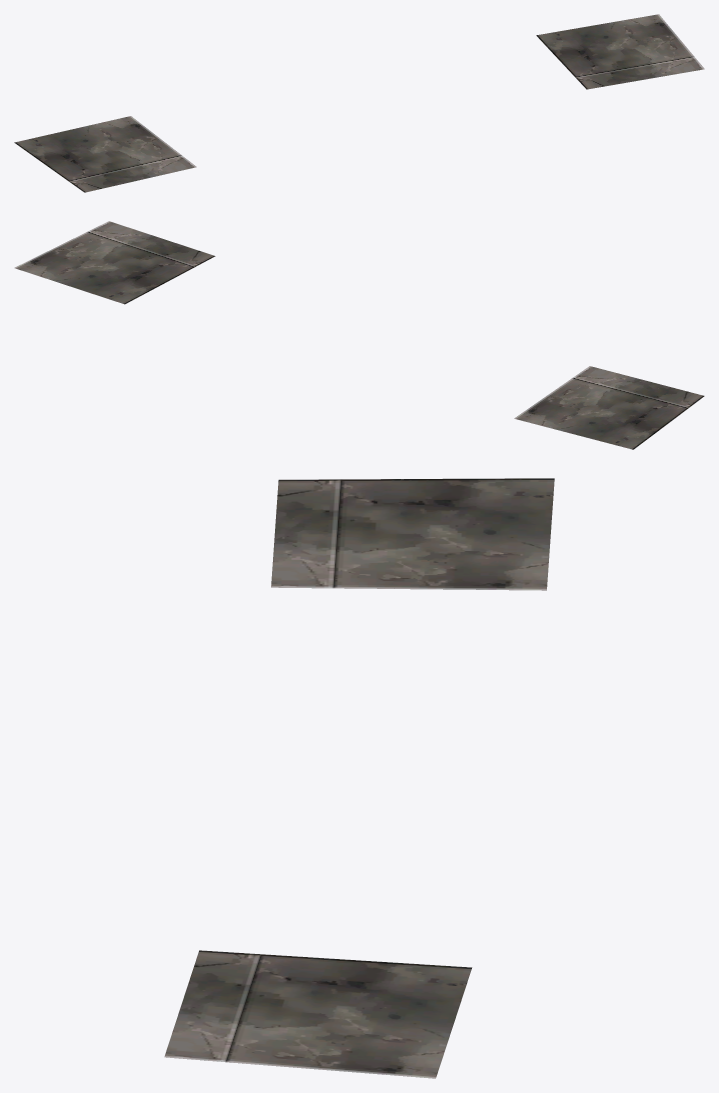
File: CH09_SMAUG_PLAYSURFACE_LAIR146.fbx
The picture shows the model from 3 angles, top to bottom: view 1: azimuth 30°, elevation 25°; view 2: azimuth 150°, elevation 25°; view 3: azimuth 270°, elevation 25°; orthographic projection. The views are drawn at different scales.
Visible parts, largest first — view 1: CH09_SMAUG_PLAYSURFACE_LAIR146; view 2: CH09_SMAUG_PLAYSURFACE_LAIR146; view 3: CH09_SMAUG_PLAYSURFACE_LAIR146.
Boxes of the visible parts, left/top/right/bottom form: CH09_SMAUG_PLAYSURFACE_LAIR146: left=14, top=14, right=704, bottom=192; CH09_SMAUG_PLAYSURFACE_LAIR146: left=14, top=221, right=704, bottom=449; CH09_SMAUG_PLAYSURFACE_LAIR146: left=164, top=478, right=554, bottom=1078.
Bounding box in the file's own units: 56680 × 0.00254 × 15576.
Materials: 1 (1 with a texture image).
